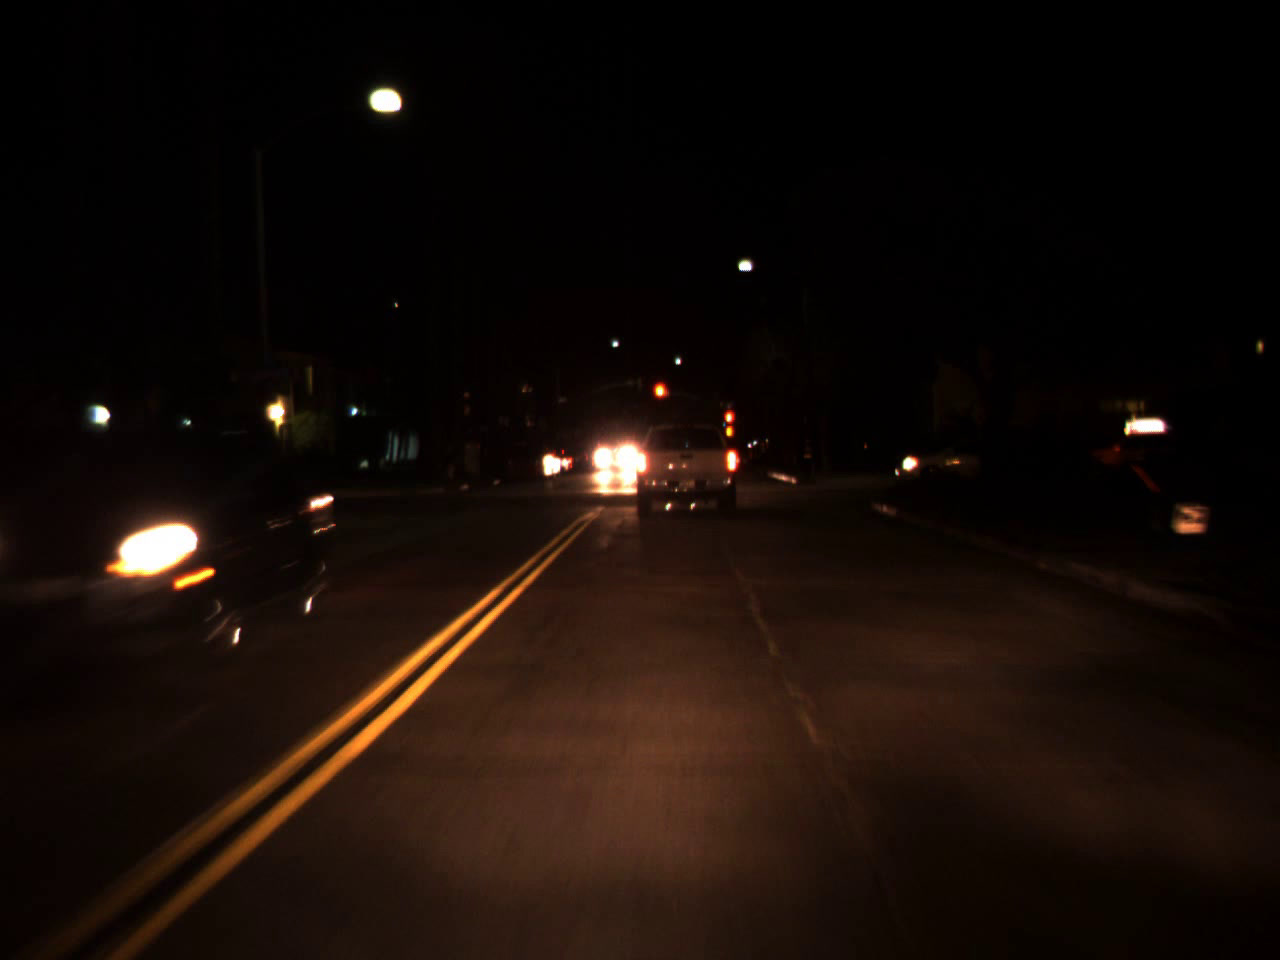stop: (650, 380, 669, 415), (722, 409, 735, 438)
